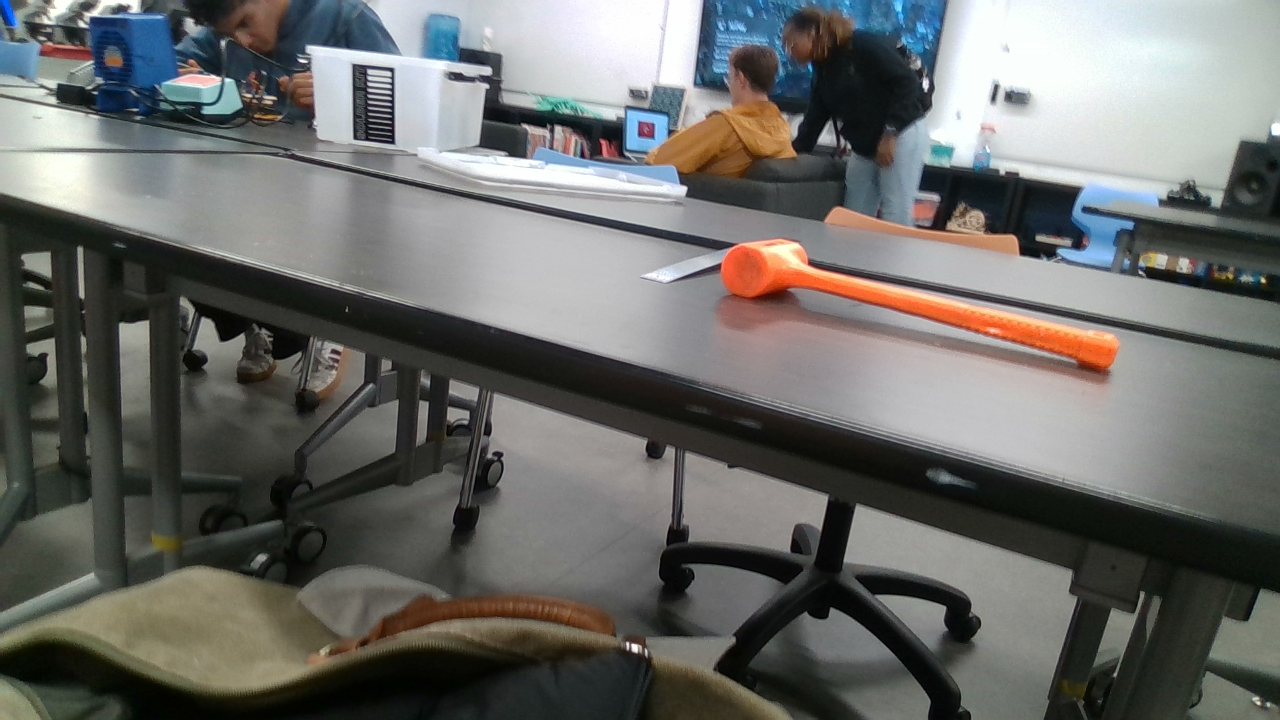Orange Hammer: (718, 238, 1121, 368)
